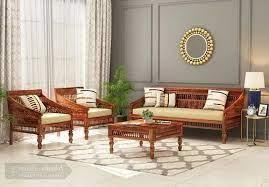chair: (3, 87, 73, 151), (55, 85, 115, 134)
clock: (245, 103, 259, 119)
light: (244, 70, 265, 107)
sofa: (128, 84, 247, 139)
table: (105, 120, 186, 159), (243, 114, 269, 143)
